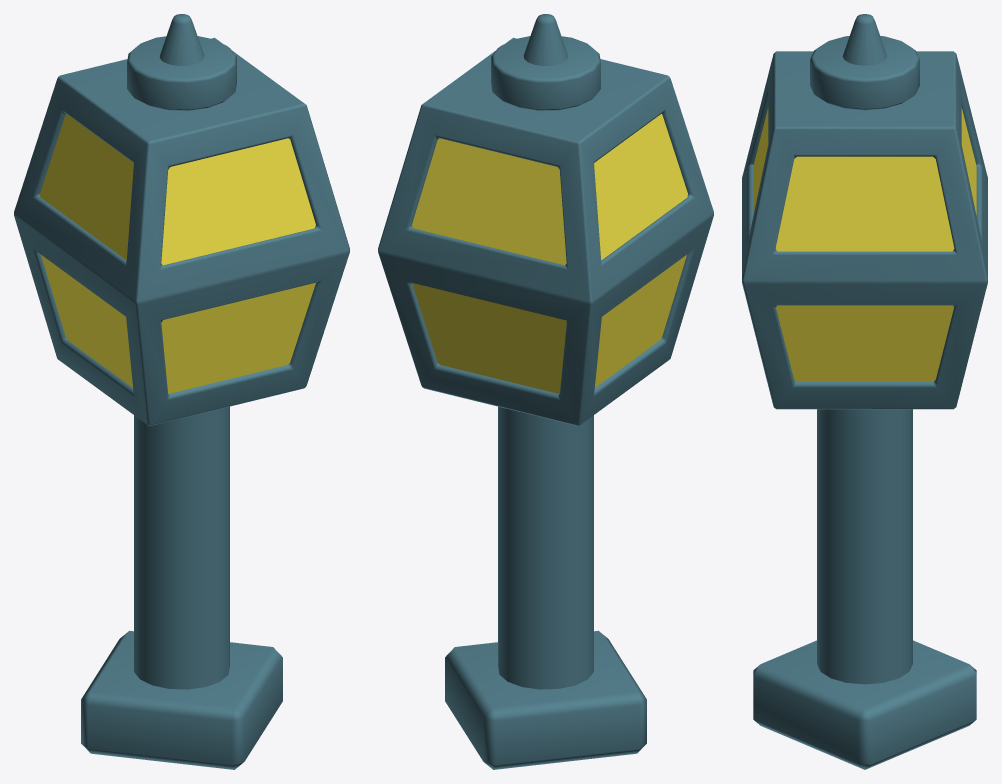
Rendered from Town_11_Street_Lamp_1.glb.
3 renders of one model, left to right at view 1: azimuth 30°, elevation 25°; view 2: azimuth 150°, elevation 25°; view 3: azimuth 270°, elevation 25°, orthographic.
Visible parts, largest first — view 1: Town_11_Street_Lamp_1; view 2: Town_11_Street_Lamp_1; view 3: Town_11_Street_Lamp_1.
Boxes of the visible parts, x1,y1,x2,y2 form: Town_11_Street_Lamp_1: [14, 14, 349, 769]; Town_11_Street_Lamp_1: [378, 14, 713, 769]; Town_11_Street_Lamp_1: [742, 14, 987, 769].
Bounding box in the file's own units: 0.411 × 1.31 × 0.411.
1 material, 1 textured.
